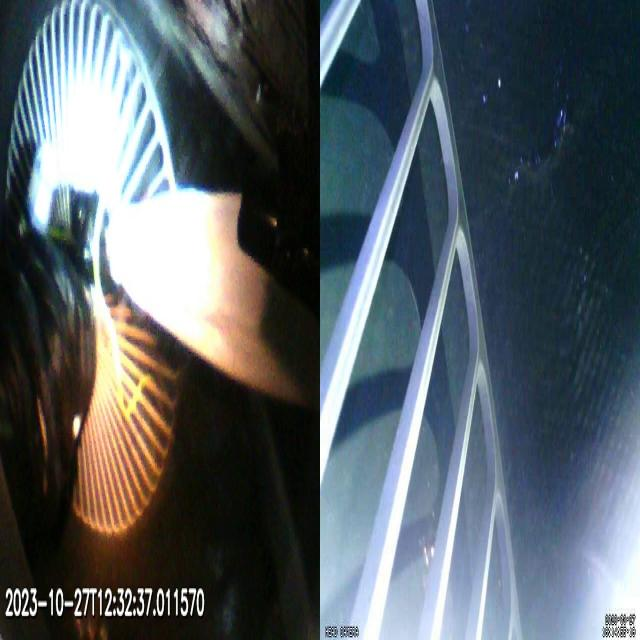head: (28, 143, 56, 233)
